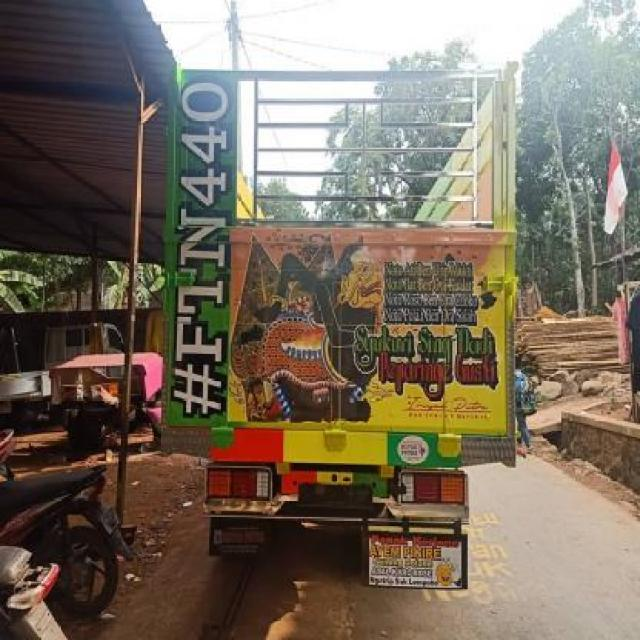truck: (162, 63, 518, 591)
